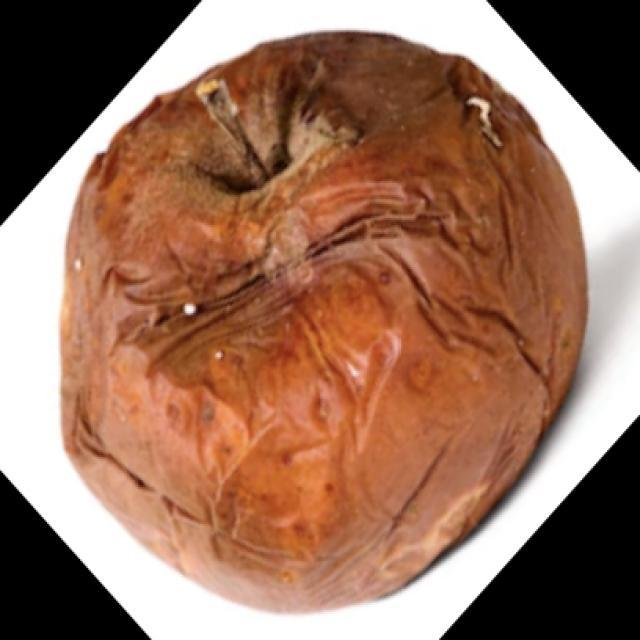Rotten: (98, 31, 576, 640)
